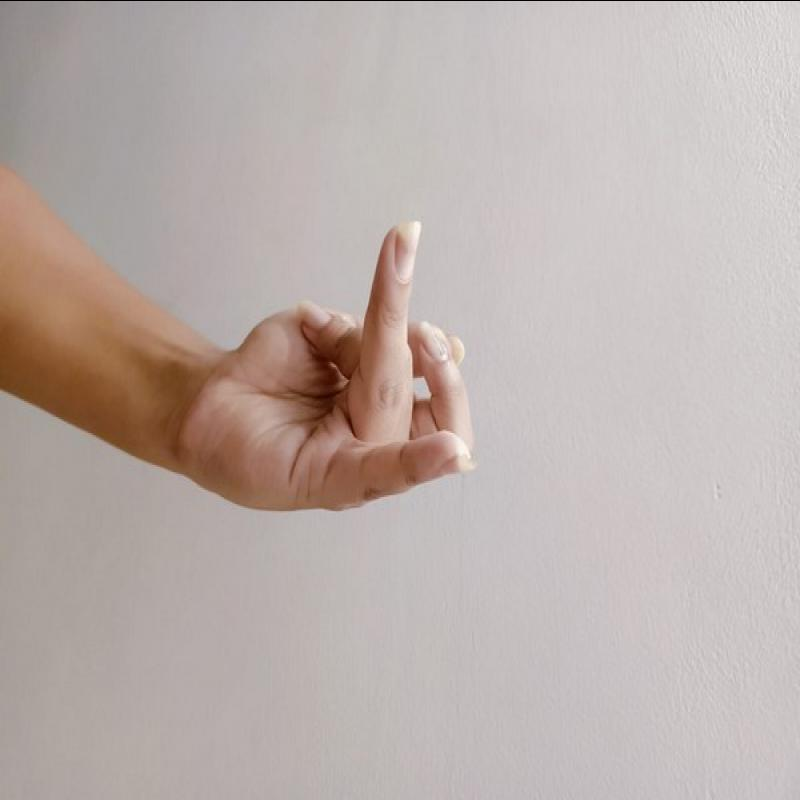Katakam: (173, 193, 509, 535)
